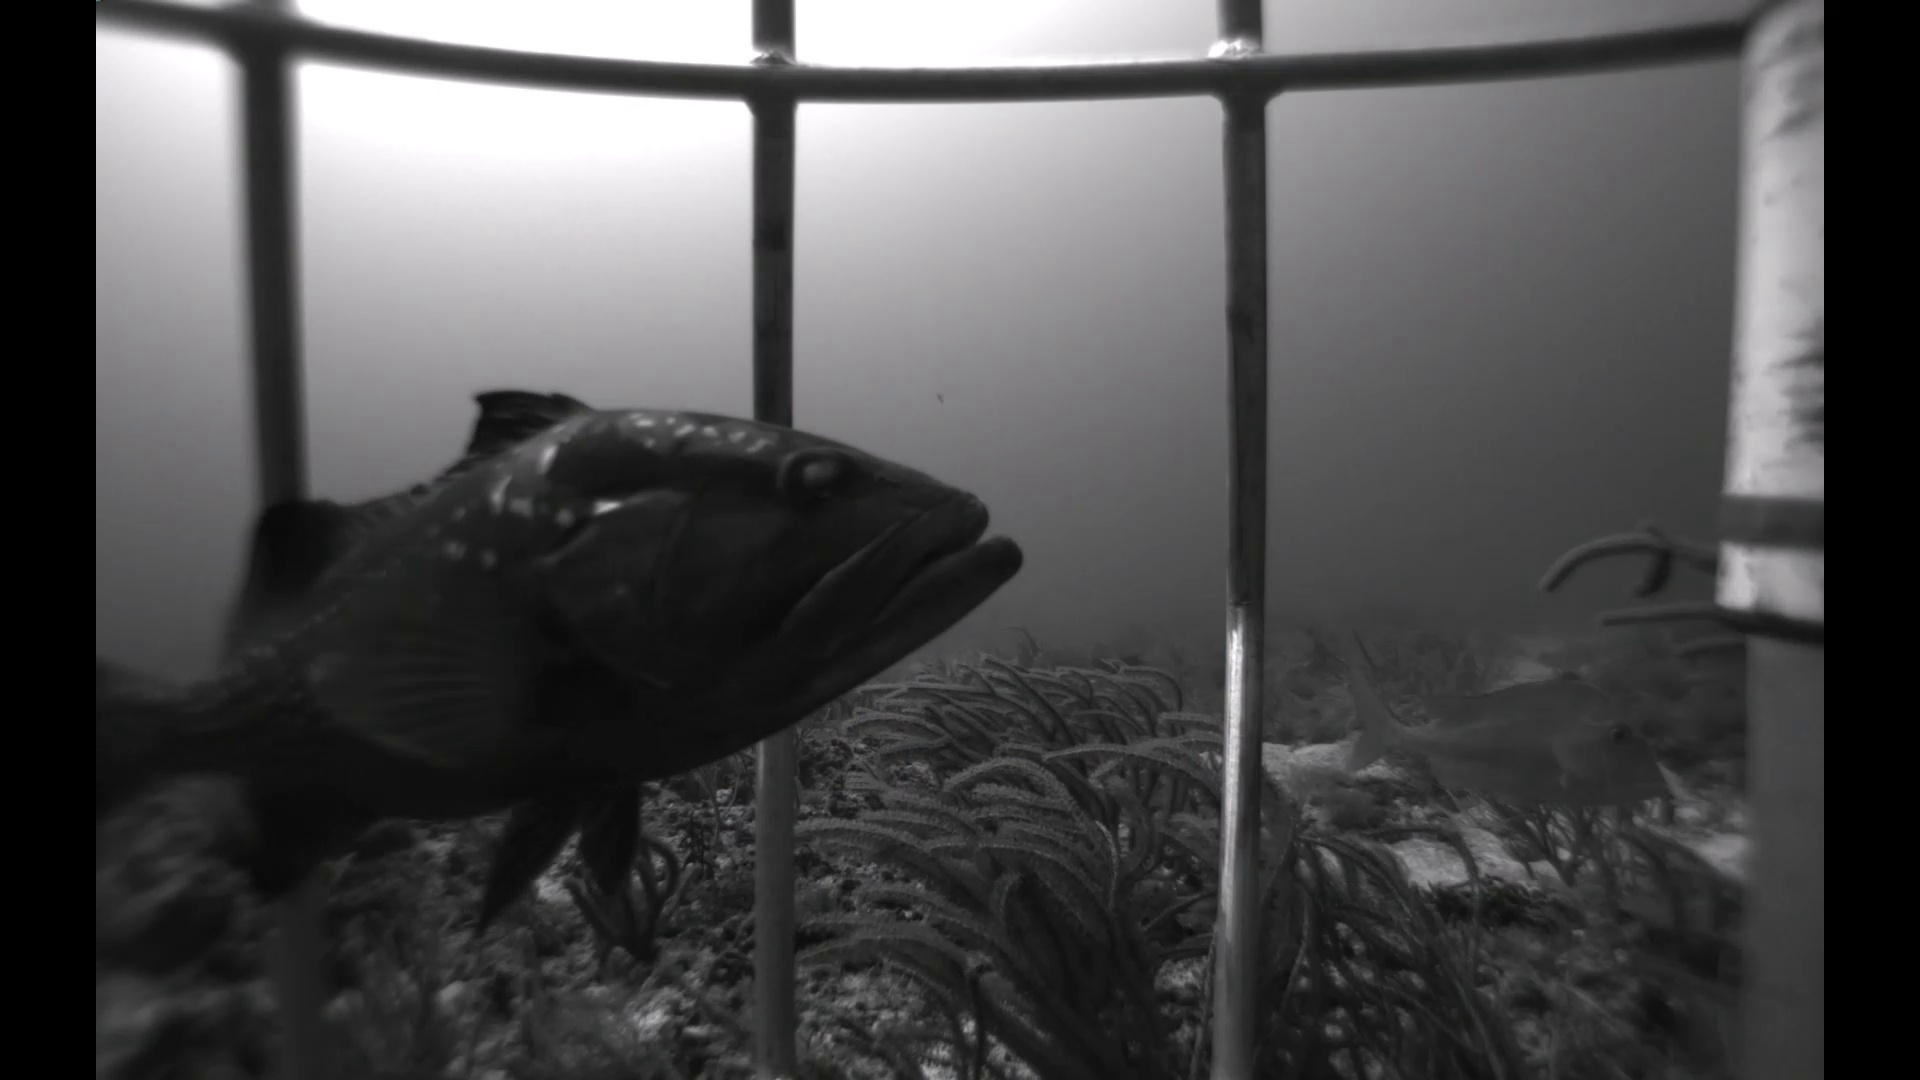CALAMUSNODOSUS-170210608: (1325, 647, 1688, 833)
EPINEPHELUSMORIO-170021211: (105, 375, 1038, 963)
